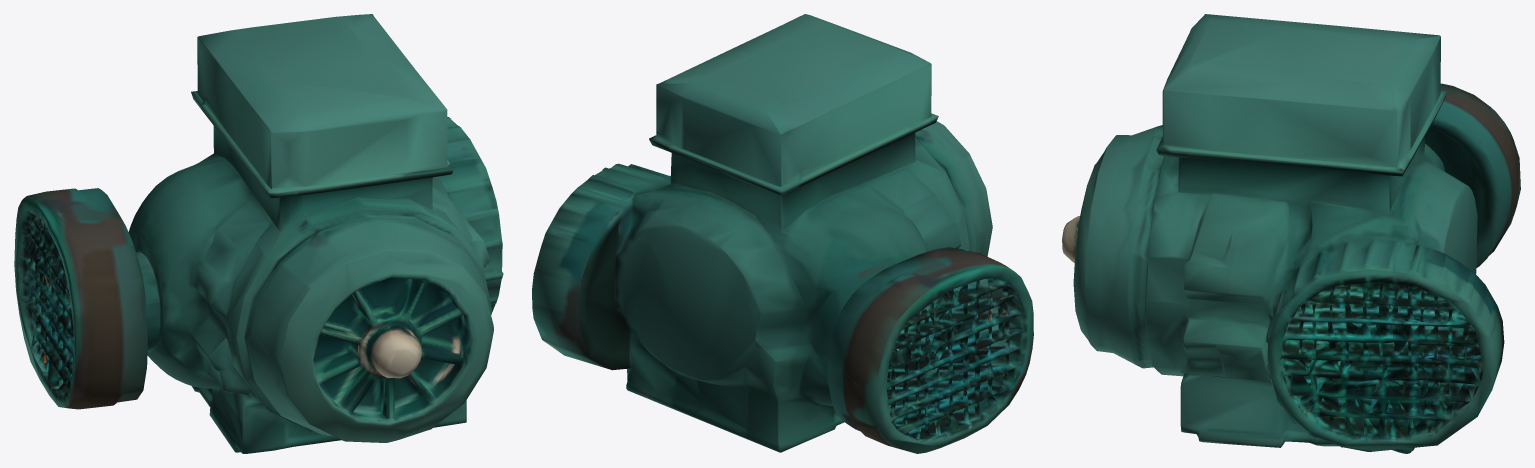
The model's file is motor.fbx.
3 views of the same model, side by side, from view 1: azimuth 30°, elevation 25°; view 2: azimuth 150°, elevation 25°; view 3: azimuth 270°, elevation 25° (orthographic). The views are drawn at different scales.
Visible parts, largest first — view 1: node_0.001; view 2: node_0.001; view 3: node_0.001.
Boxes of the visible parts, x1,y1,x2,y2 form: node_0.001: (14, 14, 503, 453); node_0.001: (532, 14, 1033, 453); node_0.001: (1062, 14, 1520, 453).
Size of the model in its own units: 0.2537 by 0.1925 by 0.2314.
1 material, 1 textured.
